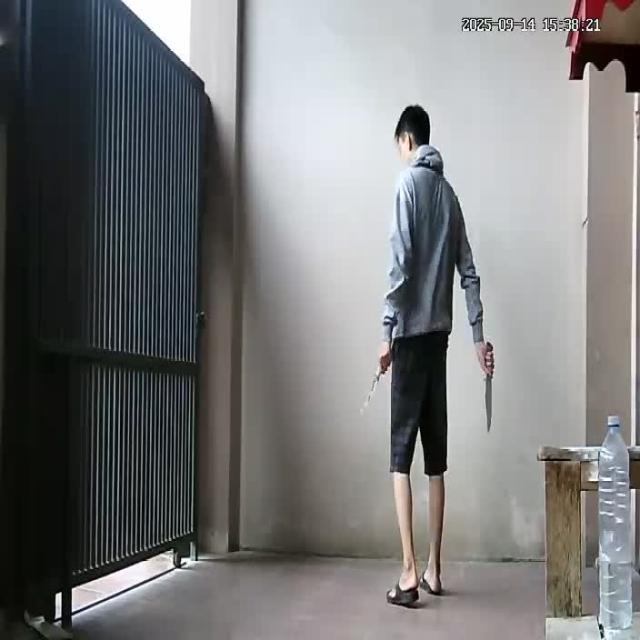senjata_tajam: (358, 368, 384, 421), (485, 374, 493, 434)
